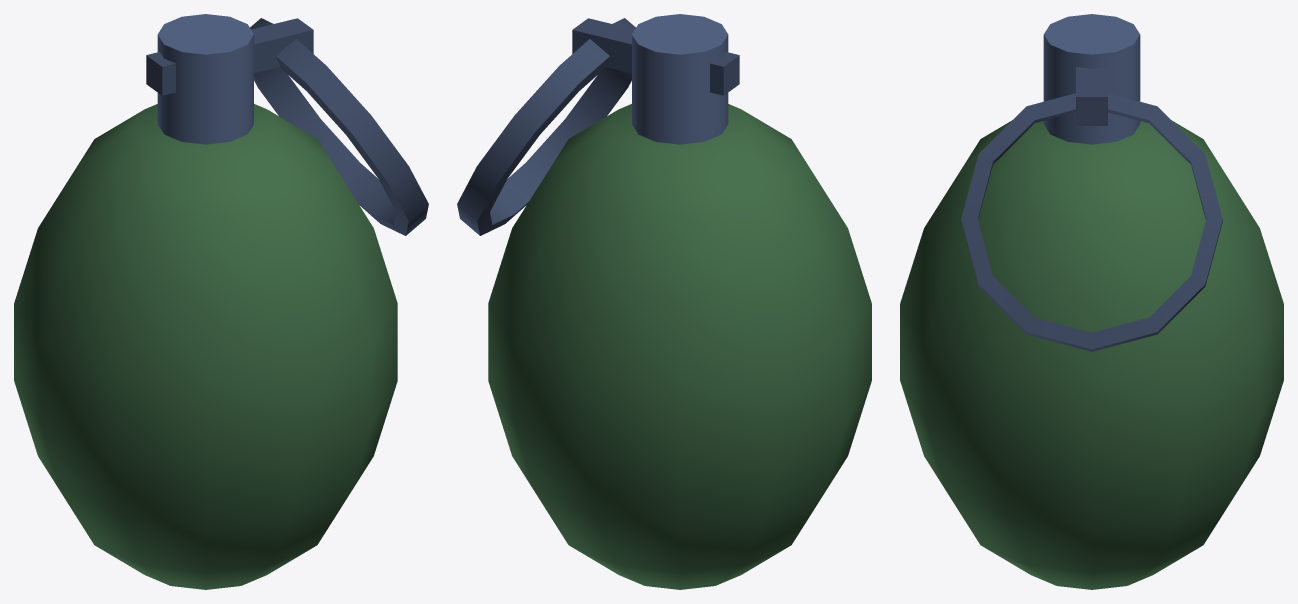
The model's file is Grenade.fbx.
The picture shows the model from 3 angles, left to right: view 1: azimuth 30°, elevation 25°; view 2: azimuth 150°, elevation 25°; view 3: azimuth 270°, elevation 25°; orthographic projection.
Parts seen in each view (by area): view 1: Grenade; view 2: Grenade; view 3: Grenade.
Boxes of the visible parts, x1,y1,x2,y2 form: Grenade: (14, 14, 428, 589); Grenade: (457, 14, 871, 589); Grenade: (900, 14, 1283, 589).
Size of the model in its own units: 0.3448 by 0.4796 by 0.3173.
